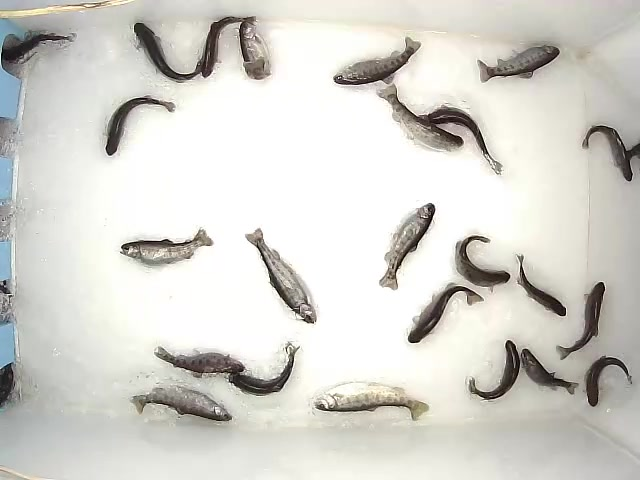fish: (244, 227, 318, 325), (416, 104, 506, 176), (376, 82, 465, 154), (378, 202, 436, 291), (313, 380, 430, 422), (407, 282, 485, 344), (102, 94, 176, 156), (332, 36, 422, 86), (133, 22, 205, 83), (127, 383, 233, 423), (227, 341, 302, 397), (555, 281, 606, 361), (118, 226, 214, 266), (450, 233, 511, 294), (513, 252, 567, 318), (201, 16, 257, 79), (477, 42, 560, 84), (468, 339, 520, 401), (153, 345, 246, 379), (581, 124, 633, 183), (520, 347, 580, 396), (581, 355, 634, 407), (239, 21, 273, 80)
